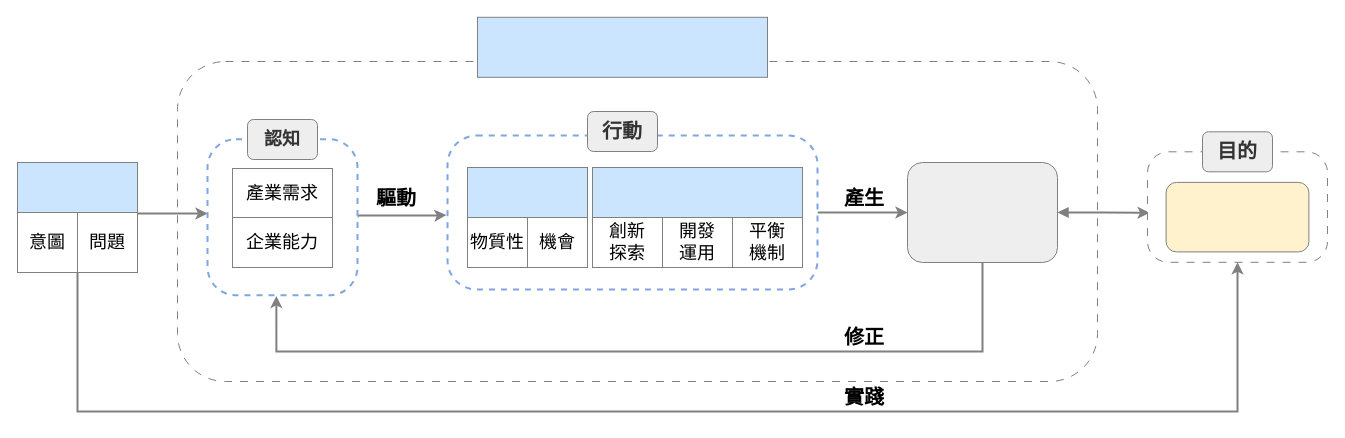
The diagram is 1345 pixels wide and 438 high, and some of its shapes have lost their labels. The centre of each missing label's shape, as x and y in pixels:
平台階段性 應用結果: pixel 982 212
探索 可供性: pixel 527 192
數位紡織 產業生態系: pixel 1237 216
科技可供性制定: pixel 622 46
能動性: pixel 77 187
雙元性靈巧 實現可供性: pixel 697 192
